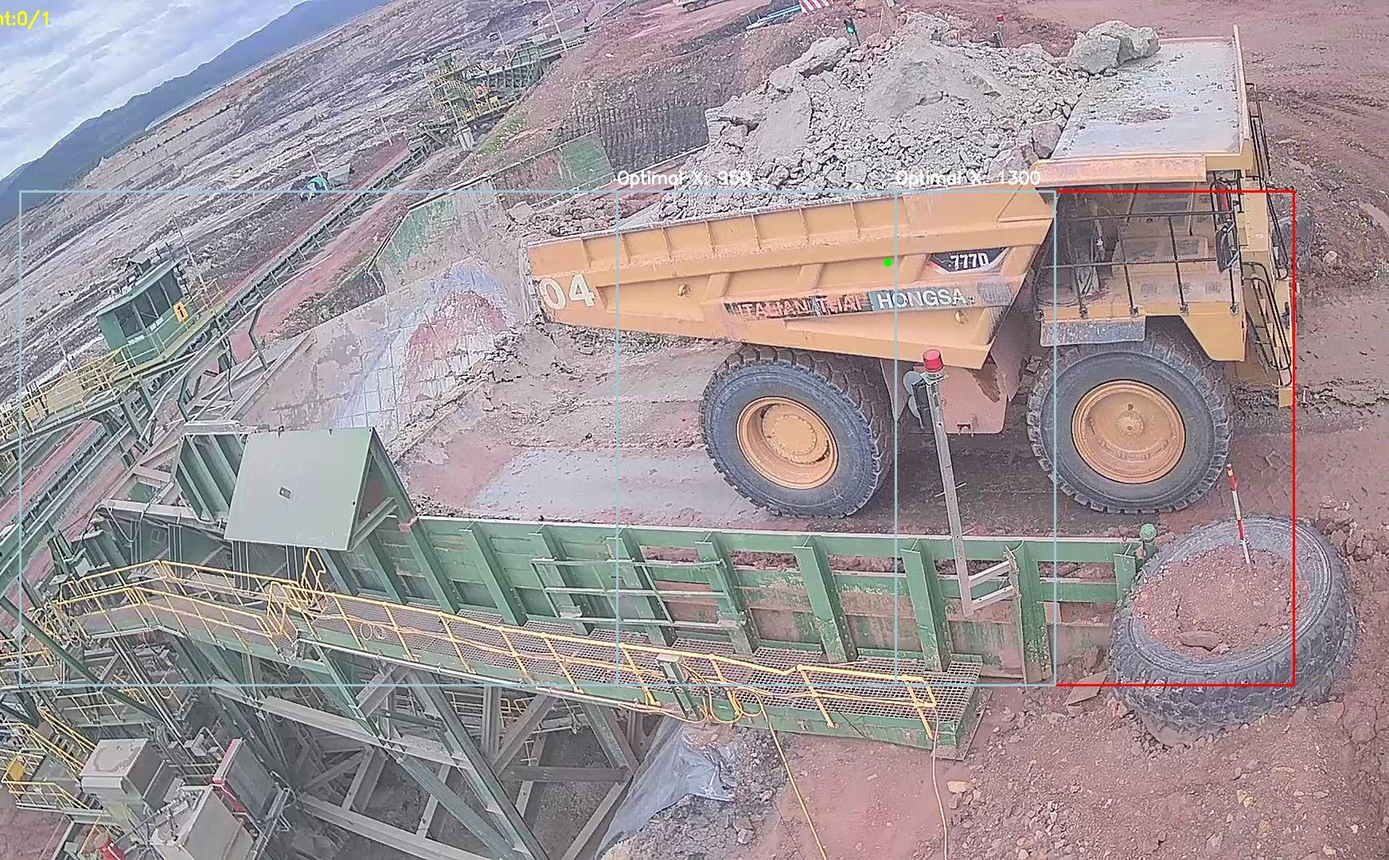company: (710, 278, 984, 323)
full_load: (719, 27, 1046, 201)
mining_truck: (513, 17, 1299, 530)
tail_number: (534, 264, 607, 324)
truck_size: (921, 235, 1019, 276)
